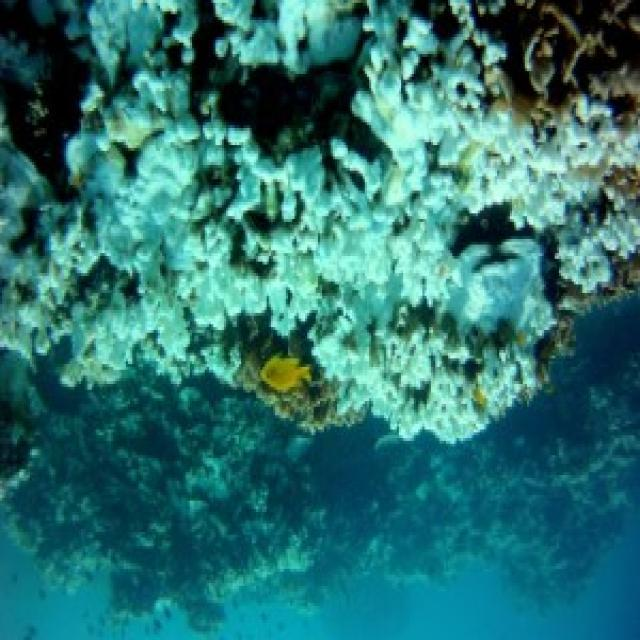Bleached: (8, 5, 230, 368)
Healthy: (508, 1, 640, 137)
